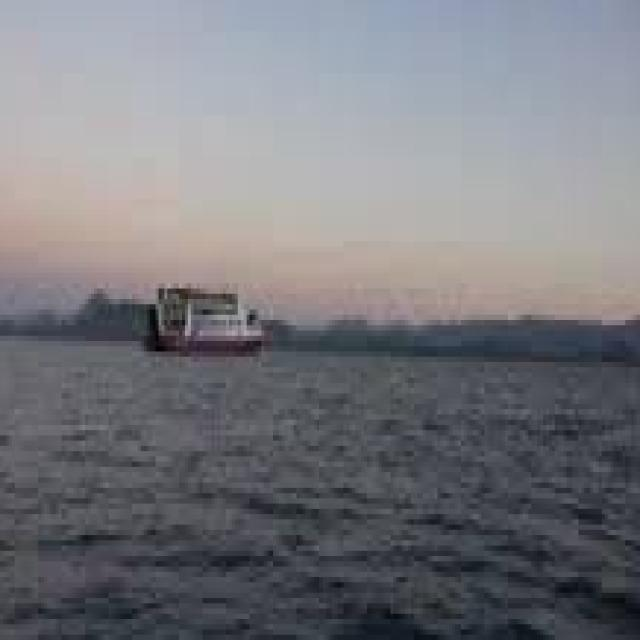houseboat: (152, 250, 273, 358)
